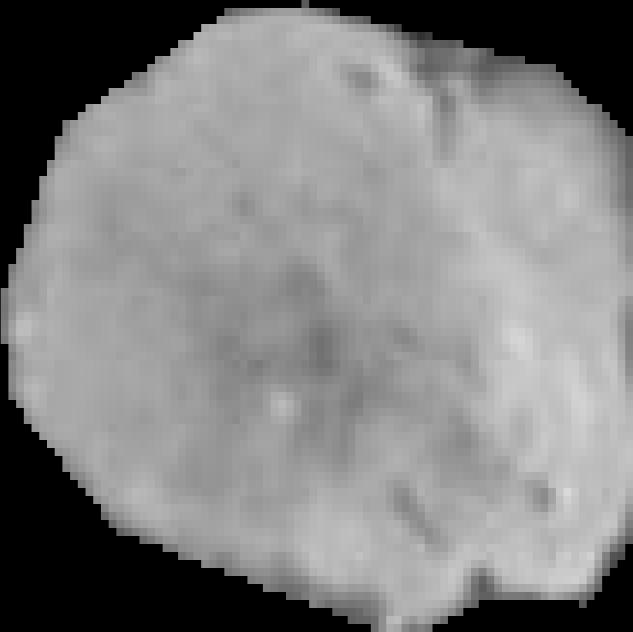tumor_moderate_chance: (1, 0, 633, 632)
